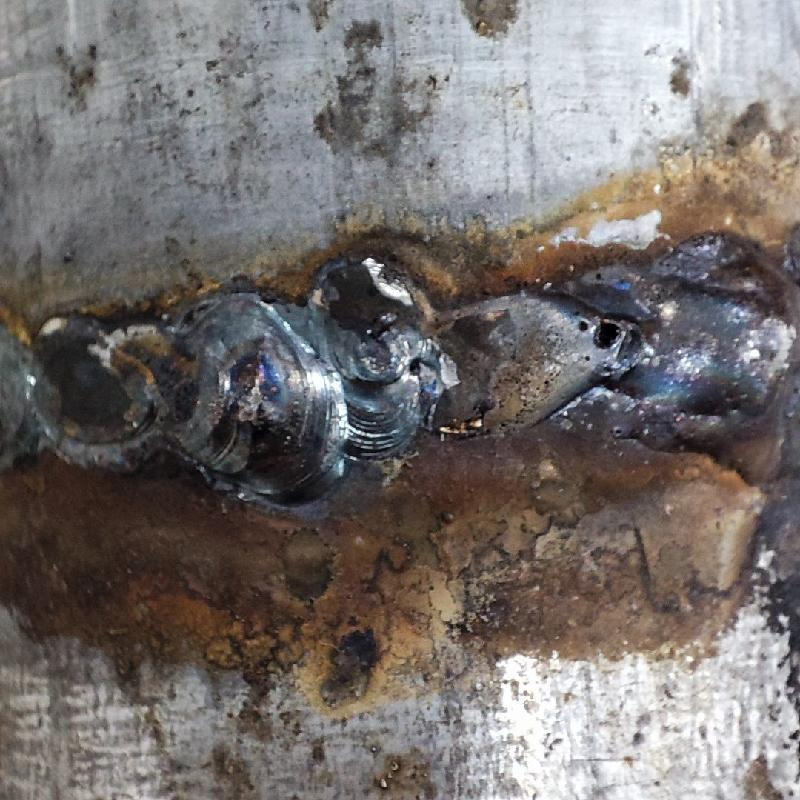Not_fully_soldered: (323, 262, 622, 450)
Surface_pores: (560, 296, 629, 369)
Weld: (608, 245, 798, 477)
